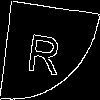R: (24, 24, 64, 76)
